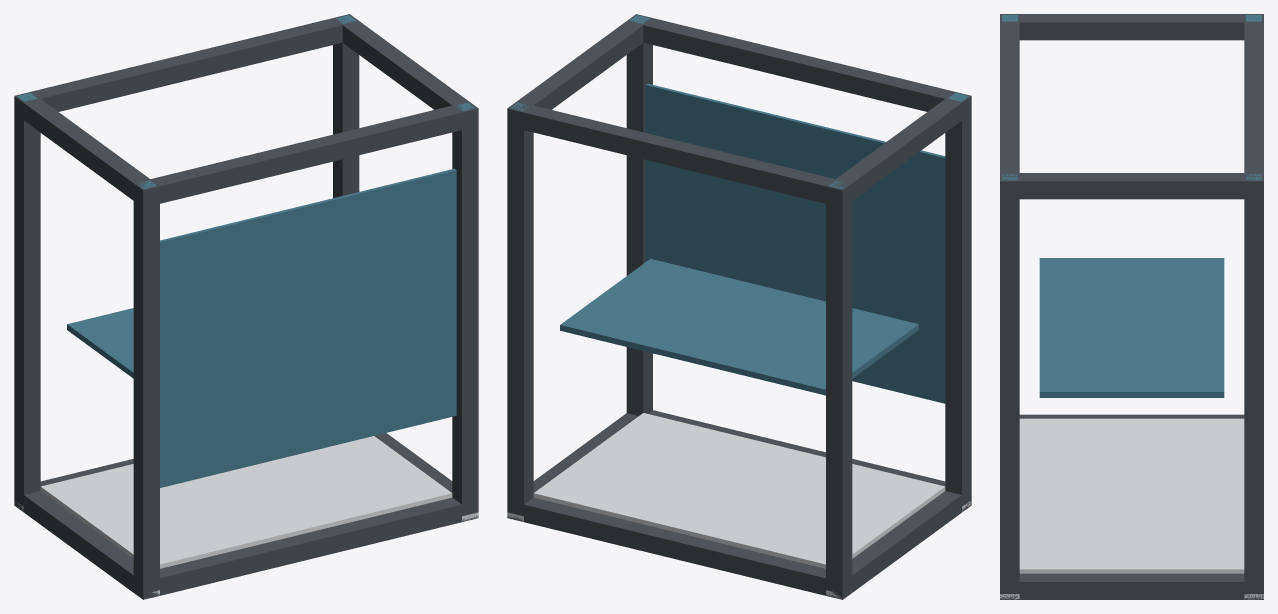
File: concept-industrial-module.glb
3 renders of one model, left to right at view 1: azimuth 30°, elevation 25°; view 2: azimuth 150°, elevation 25°; view 3: azimuth 270°, elevation 25°, orthographic. The views are drawn at different scales.
Visible parts, largest first — view 1: RearPlate, BasePlate, Column, Column.001, Column.002, TopX, BaseX, TopX.001, TopY, BaseY, TopY.001, Column.003 (+2 smaller); view 2: RearPlate, BasePlate, InternalShelf, Column.001, Column.003, Column, TopX.001, BaseX.001, TopX, Column.002, TopY, BaseY (+3 smaller); view 3: BasePlate, InternalShelf, Column.003, Column.002, BaseY.001, TopY, TopY.001, TopX, TopX.001, BaseY.
Part boxes in pixels (left/top/right/bottom): RearPlate: left=160, top=168, right=456, bottom=487; BasePlate: left=40, top=436, right=452, bottom=568; Column: left=133, top=179, right=159, bottom=599; Column.001: left=14, top=92, right=40, bottom=511; Column.002: left=452, top=101, right=478, bottom=521; TopX: left=150, top=105, right=461, bottom=203; BaseX: left=160, top=497, right=461, bottom=595; TopX.001: left=31, top=18, right=342, bottom=111; TopY: left=24, top=99, right=149, bottom=200; BaseY: left=24, top=491, right=133, bottom=592; TopY.001: left=342, top=21, right=468, bottom=109; Column.003: left=333, top=14, right=359, bottom=198; RearPlate: left=645, top=83, right=945, bottom=403; BasePlate: left=533, top=413, right=945, bottom=568; InternalShelf: left=560, top=258, right=918, bottom=395; Column.001: left=826, top=179, right=852, bottom=599; Column.003: left=507, top=101, right=533, bottom=521; Column: left=945, top=92, right=971, bottom=512; TopX.001: left=524, top=105, right=835, bottom=203; BaseX.001: left=524, top=497, right=825, bottom=595; TopX: left=643, top=18, right=954, bottom=111; Column.002: left=626, top=14, right=652, bottom=415; TopY: left=836, top=99, right=961, bottom=200; BaseY: left=852, top=491, right=961, bottom=592; BasePlate: left=1019, top=418, right=1244, bottom=573; InternalShelf: left=1039, top=258, right=1224, bottom=397; Column.003: left=1244, top=173, right=1263, bottom=599; Column.002: left=1000, top=173, right=1019, bottom=599; BaseY.001: left=1019, top=573, right=1244, bottom=599; TopY: left=1019, top=14, right=1244, bottom=40; TopY.001: left=1019, top=173, right=1244, bottom=199; TopX: left=1000, top=22, right=1019, bottom=172; TopX.001: left=1244, top=22, right=1263, bottom=172; BaseY: left=1019, top=414, right=1244, bottom=418.
Bounding box in the file's own units: 1.2 × 1.4 × 0.8.
